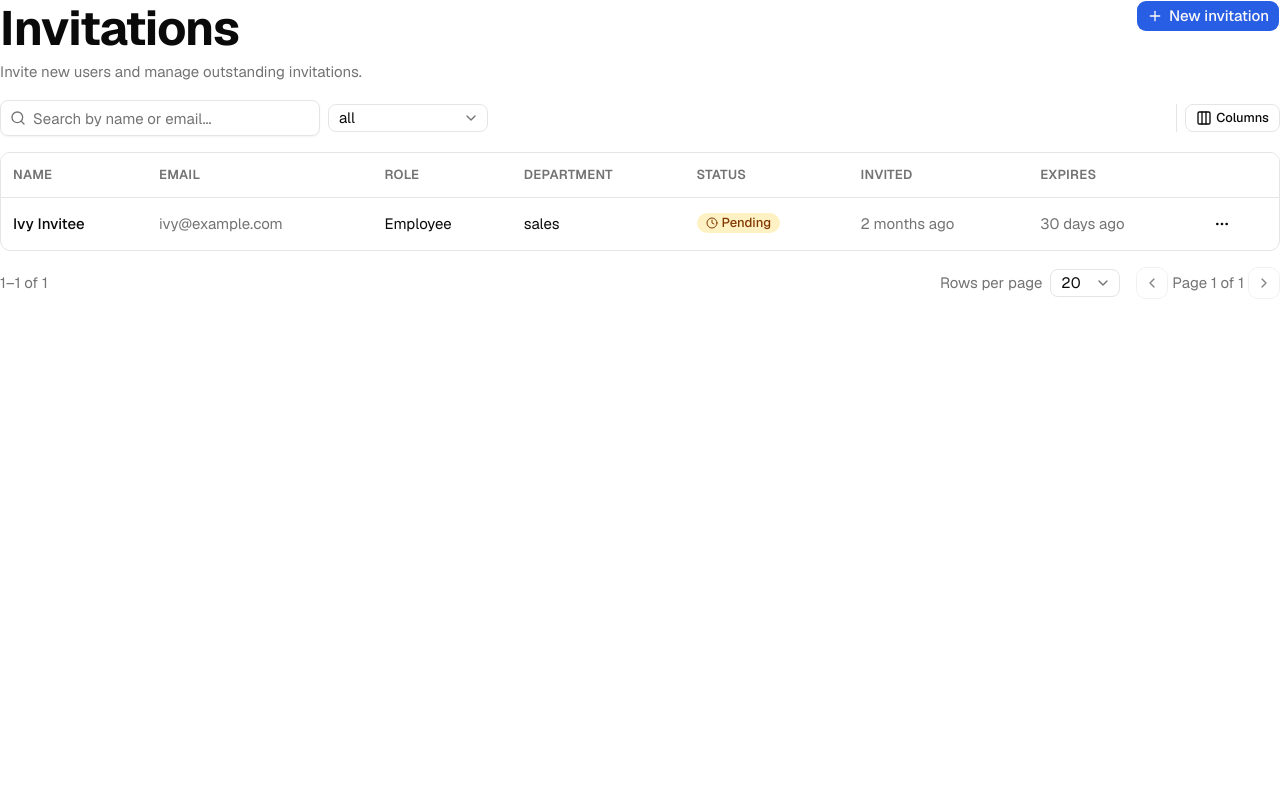
Test: AdminInvitationsPage › asks for confirmation before revoking, and does nothing on cancel
Expected: the text "Ivy Invitee" is shown, [13,214,85,232]
Click the button named "open quick actions".
click(1222, 224)  # box [1206,208,1238,240]
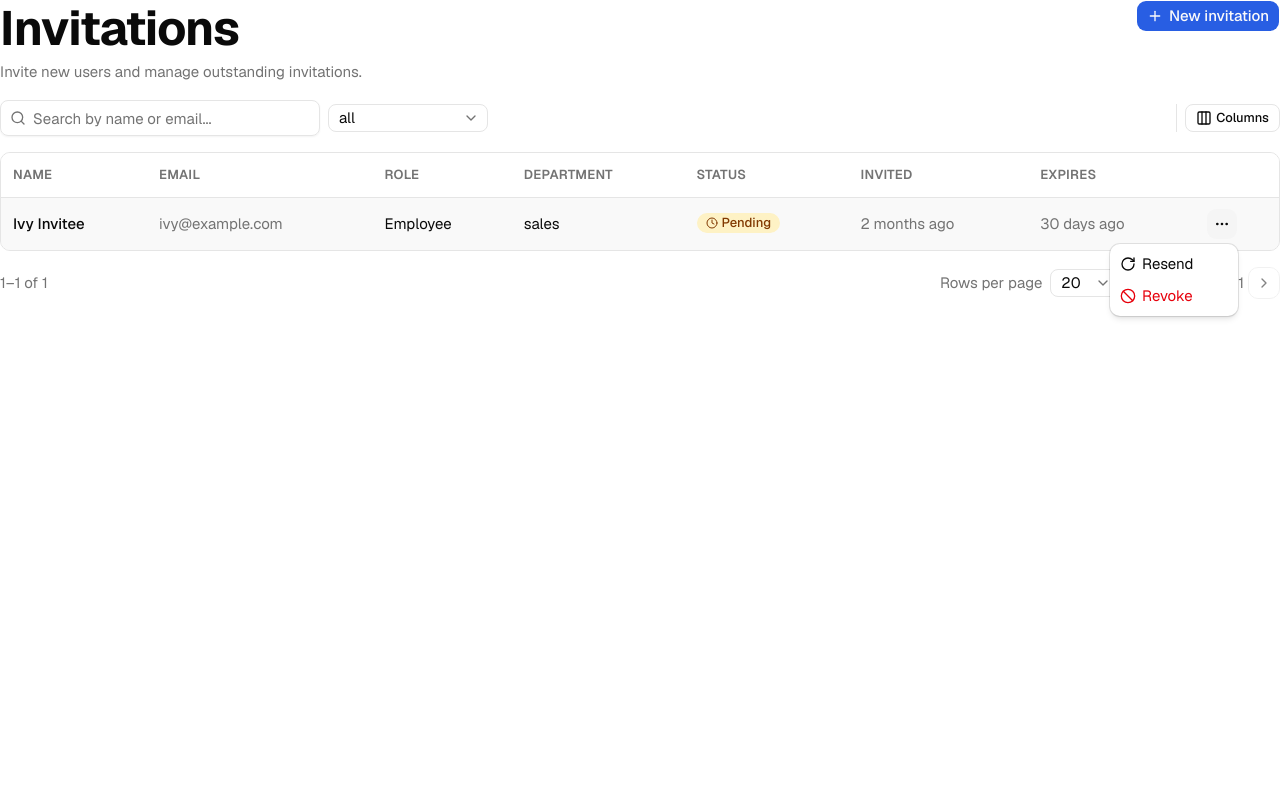
Click the menu item "Revoke".
click(1156, 296)  # box [1120,286,1193,305]
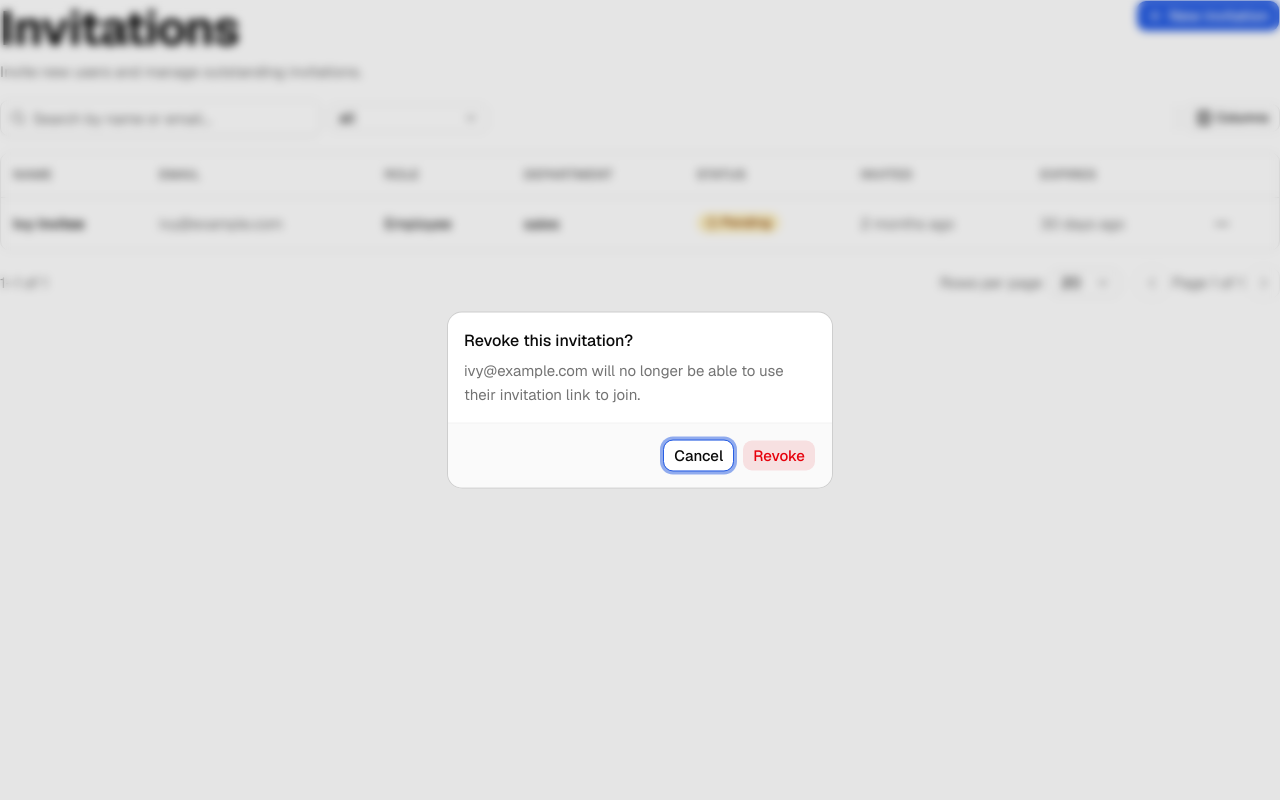
Now the heading "Revoke this invitation?" is shown, box [464,328,633,352]
Click the button "Cancel".
click(699, 456)  # box [663,440,734,472]
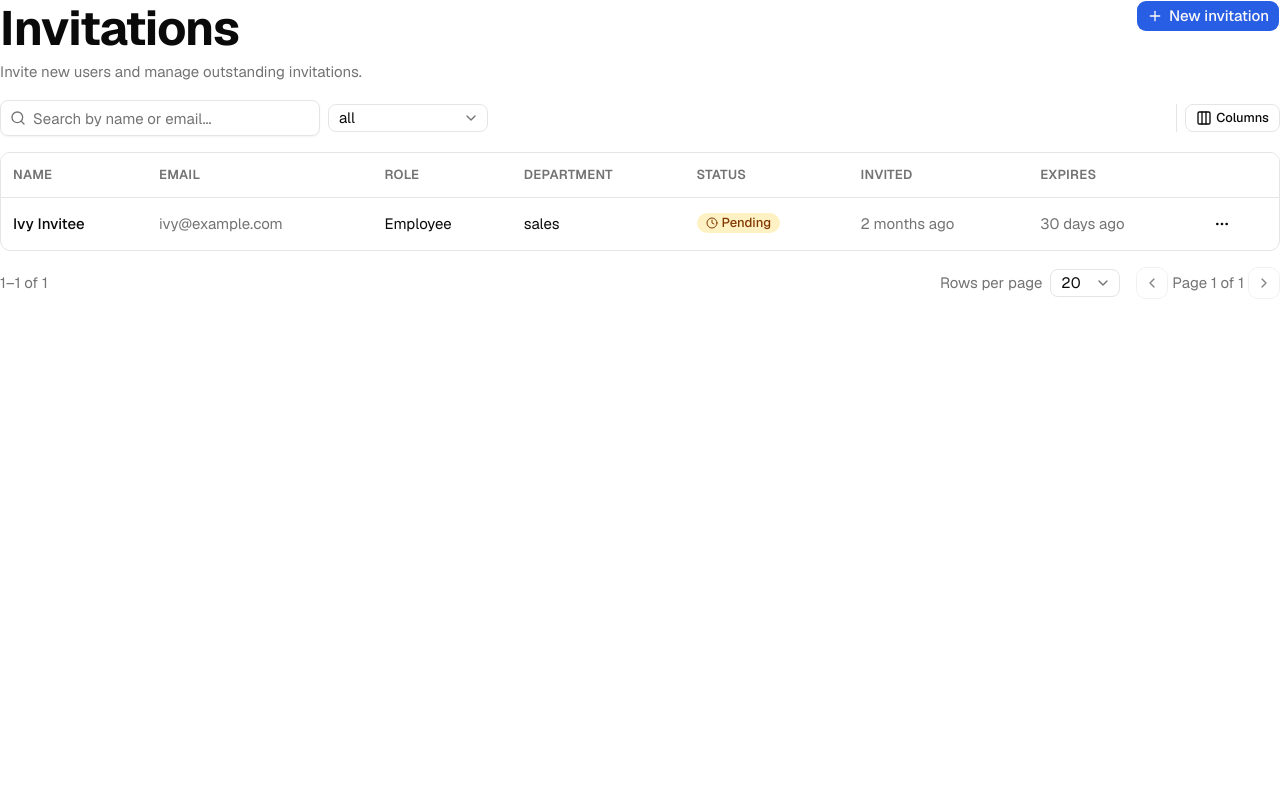
Now the heading "Revoke this invitation?" is gone
